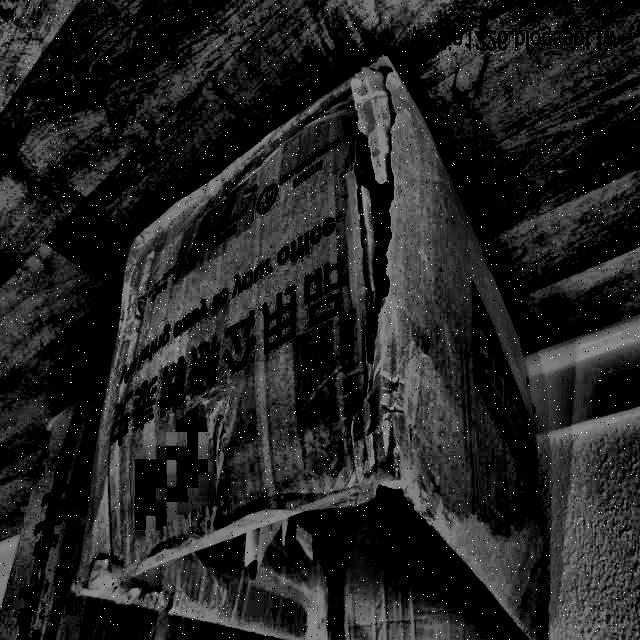box: (70, 52, 554, 640)
hole: (338, 67, 402, 339)
